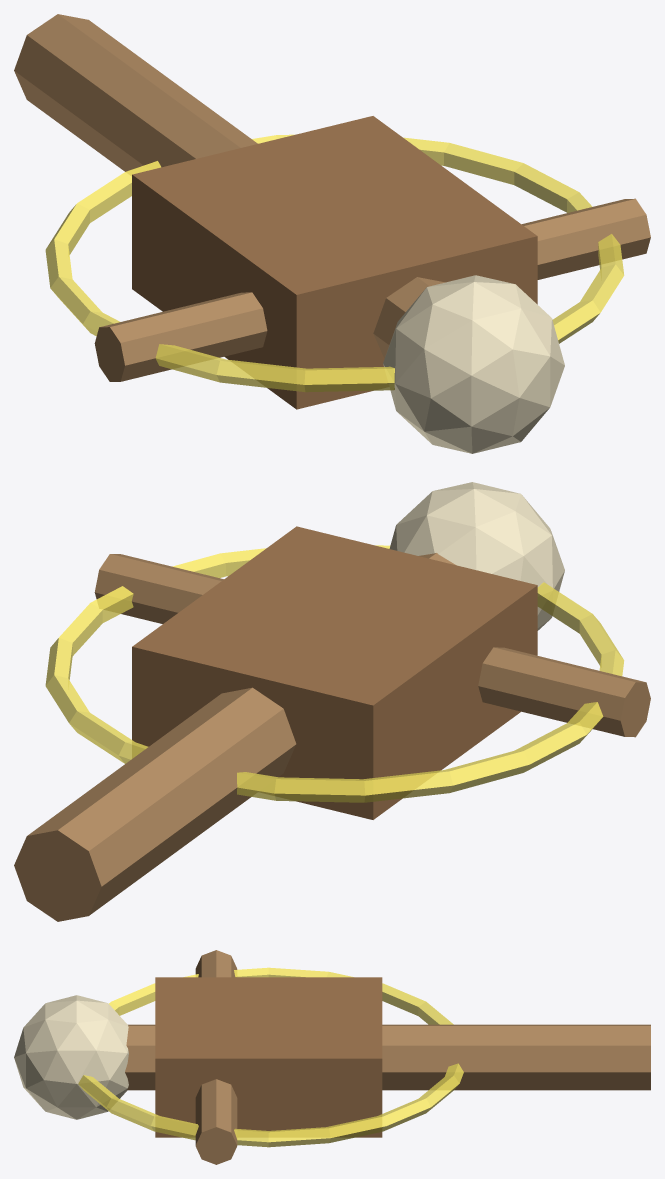
Rendered from grapple_training_anchor.glb.
3 views of the same model, one above another, from view 1: azimuth 30°, elevation 25°; view 2: azimuth 150°, elevation 25°; view 3: azimuth 270°, elevation 25° (orthographic). The views are drawn at different scales.
Parts seen in each view (by area): view 1: dummy_torso, dummy_head, dummy_post, timing_ring, arm_bar; view 2: dummy_torso, dummy_post, timing_ring, arm_bar, dummy_head; view 3: dummy_torso, dummy_post, dummy_head, timing_ring, arm_bar.
Boxes of the visible parts, bbox=[...] form: dummy_torso: bbox=[132, 116, 537, 409]; dummy_head: bbox=[383, 275, 564, 453]; dummy_post: bbox=[14, 14, 445, 358]; timing_ring: bbox=[45, 134, 624, 392]; arm_bar: bbox=[94, 198, 650, 381]; dummy_torso: bbox=[132, 526, 537, 819]; dummy_post: bbox=[14, 553, 455, 921]; timing_ring: bbox=[45, 545, 624, 802]; arm_bar: bbox=[94, 554, 650, 737]; dummy_head: bbox=[389, 482, 564, 630]; dummy_torso: bbox=[155, 977, 382, 1137]; dummy_post: bbox=[125, 1024, 650, 1090]; dummy_head: bbox=[14, 995, 128, 1119]; timing_ring: bbox=[78, 967, 463, 1147]; arm_bar: bbox=[195, 950, 237, 1164].
Size of the model in its own units: 1.2 by 0.36 by 1.83.
